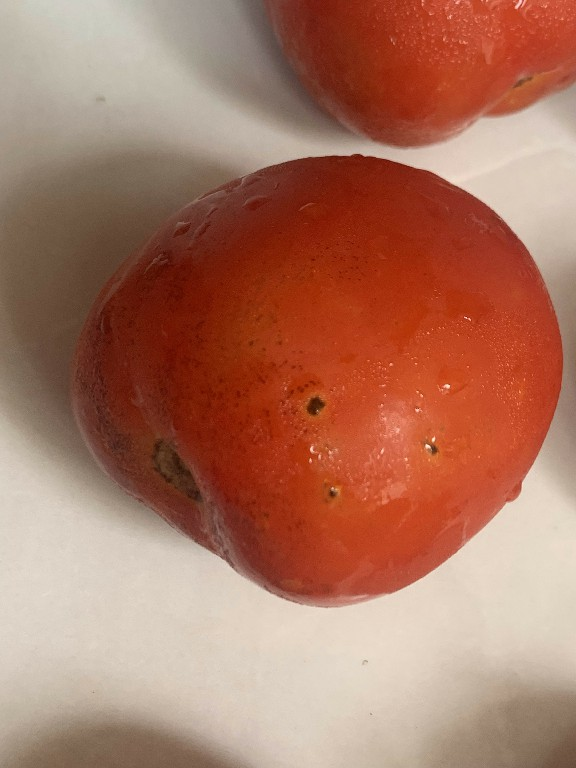NG: (94, 12, 463, 695)
